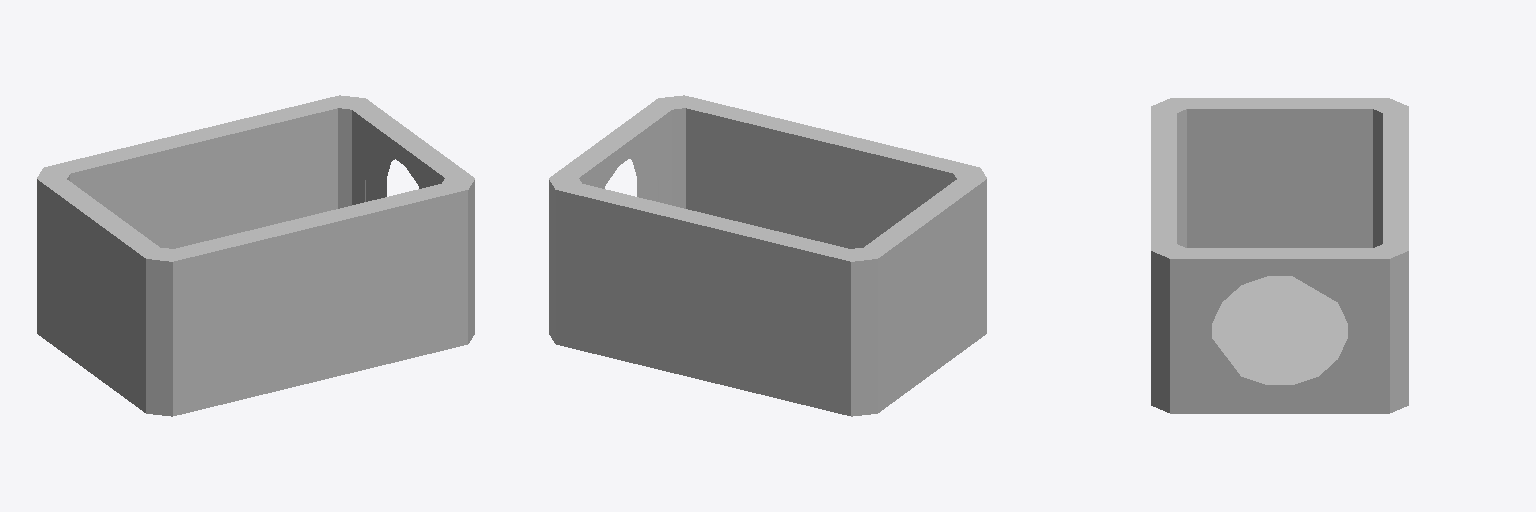
File: original-21.obj
3 renders of one model, left to right at view 1: azimuth 30°, elevation 25°; view 2: azimuth 150°, elevation 25°; view 3: azimuth 270°, elevation 25°, orthographic.
Visible parts, largest first — view 1: mesh20/mesh20-geometry#mesh20-geometry; view 2: mesh20/mesh20-geometry#mesh20-geometry; view 3: mesh20/mesh20-geometry#mesh20-geometry.
Part boxes in pixels (x1,y1,x2,y2): mesh20/mesh20-geometry#mesh20-geometry: (37, 95, 474, 416); mesh20/mesh20-geometry#mesh20-geometry: (549, 95, 986, 416); mesh20/mesh20-geometry#mesh20-geometry: (1151, 98, 1408, 413).
Size of the model in its own units: 0.1693 by 0.0761 by 0.1148.